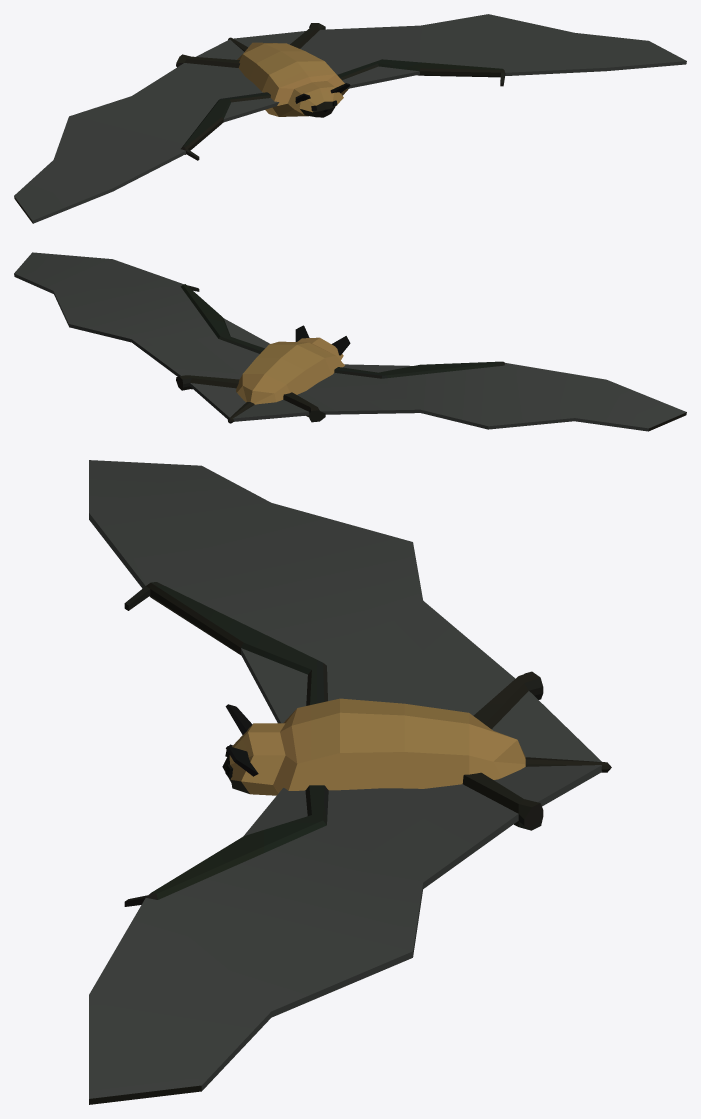
File: animals-bat-007.glb
3 views of the same model, one above another, from view 1: azimuth 30°, elevation 25°; view 2: azimuth 150°, elevation 25°; view 3: azimuth 270°, elevation 25° (orthographic). The views are drawn at different scales.
Parts seen in each view (by area): view 1: Geo_Bat; view 2: Geo_Bat; view 3: Geo_Bat.
Part boxes in pixels (bbox=[...]): Geo_Bat: bbox=[14, 14, 686, 223]; Geo_Bat: bbox=[14, 252, 686, 431]; Geo_Bat: bbox=[89, 460, 611, 1104].
Size of the model in its own units: 162 by 12.35 by 56.06.
1 material, 1 textured.
